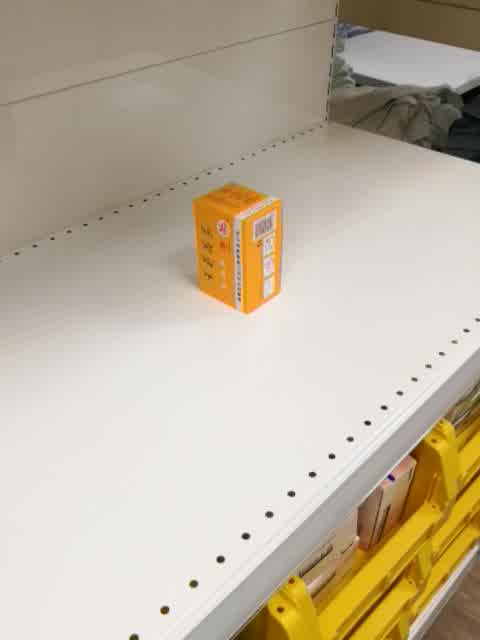jasminetea: (191, 180, 283, 315)
